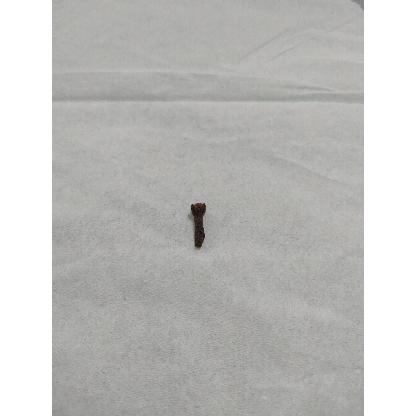sedang: (190, 203, 207, 250)
